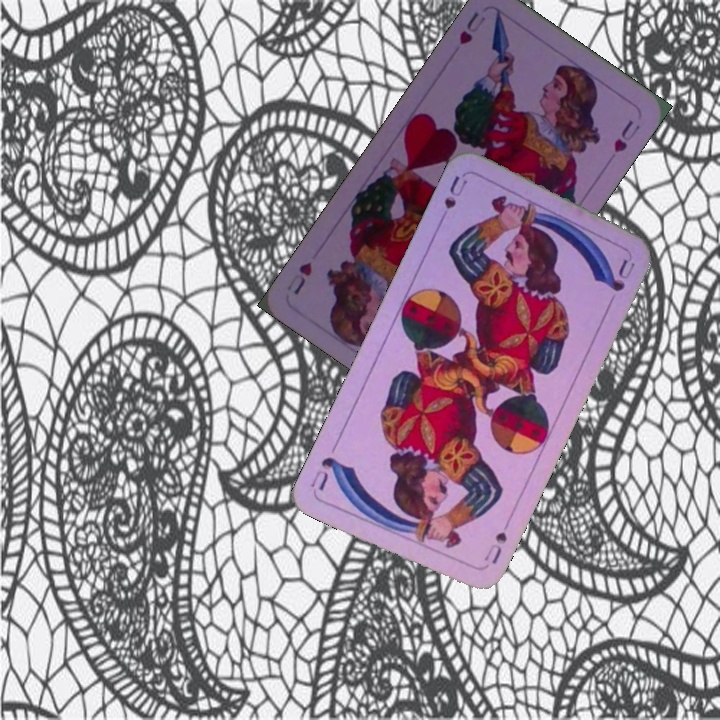HU: (455, 7, 489, 47)
SU: (434, 171, 471, 228), (480, 527, 510, 567)
